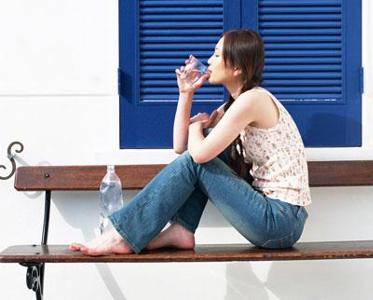person: (68, 30, 313, 257)
